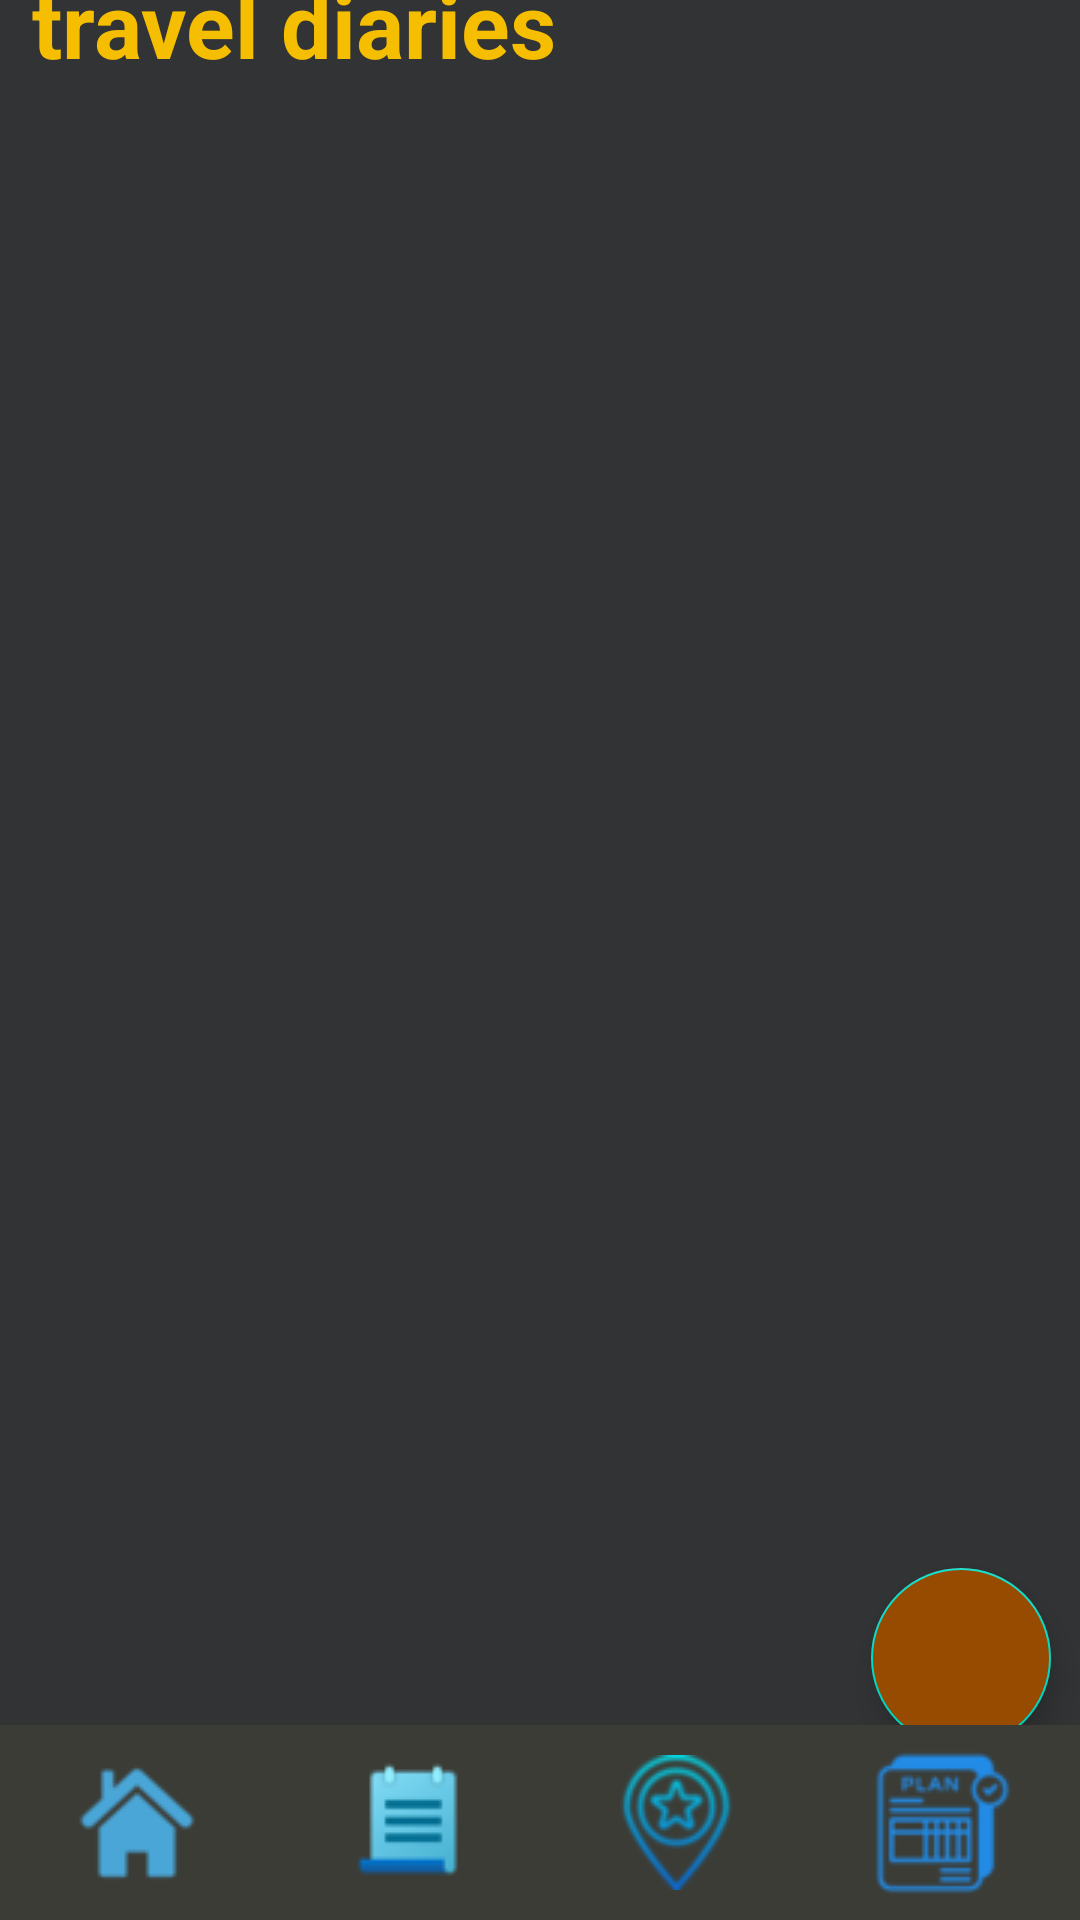

Locate icon controls on the screen. Image size 1080w x 1920h, boxes as (x1, y1, x2, y2).
blog: (358, 1764, 458, 1875)
Discover: (622, 1755, 731, 1890)
home: (80, 1768, 194, 1878)
